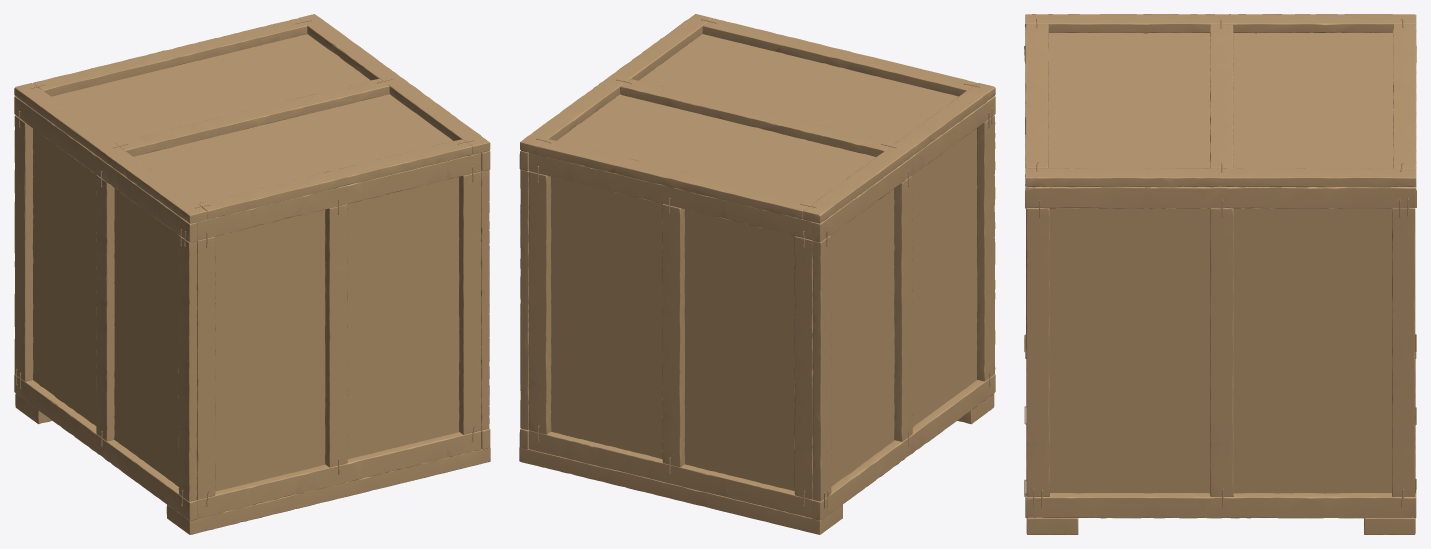
File: crate_plywood_b01.glb
3 renders of one model, left to right at view 1: azimuth 30°, elevation 25°; view 2: azimuth 150°, elevation 25°; view 3: azimuth 270°, elevation 25°, orthographic. The views are drawn at different scales.
Bounding box in the file's own units: 1 × 1.02 × 1.01.
